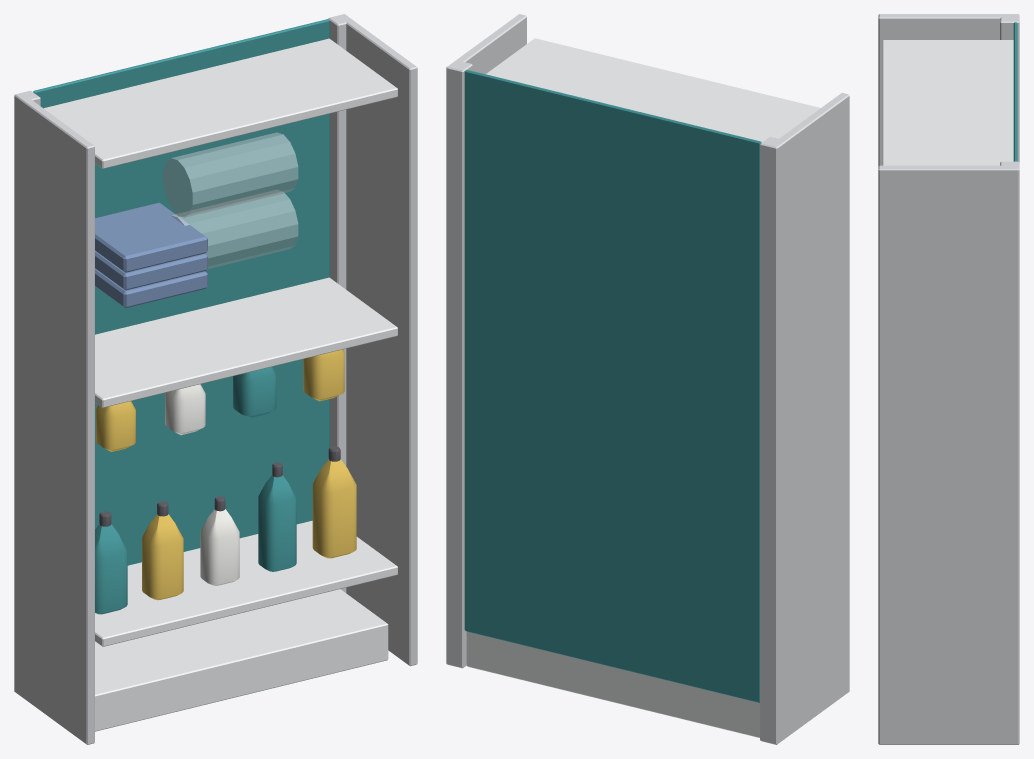
The model's file is dry-cleaners-and-alterations-shop-counter-side-shelvin-2390de48__34948.glb.
3 renders of one model, left to right at view 1: azimuth 30°, elevation 25°; view 2: azimuth 150°, elevation 25°; view 3: azimuth 270°, elevation 25°, orthographic. The views are drawn at different scales.
Visible parts, largest first — view 1: counter-side-shelving; view 2: counter-side-shelving; view 3: counter-side-shelving.
Boxes of the visible parts, x1,y1,x2,y2 form: counter-side-shelving: (14,14,417,744); counter-side-shelving: (446,14,849,744); counter-side-shelving: (878,14,1019,744).
Bounding box in the file's own units: 0.9401 × 1.62 × 0.3599.
